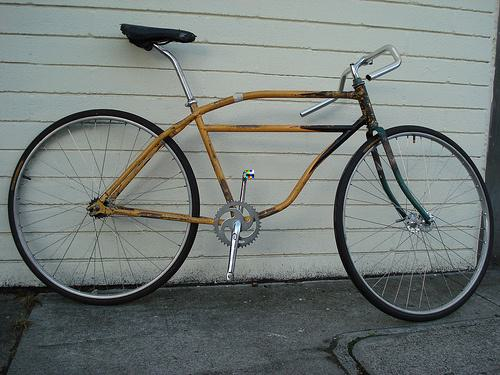car: (8, 24, 493, 325)
